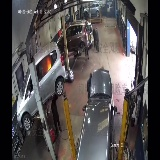fire: (44, 52, 52, 75)
